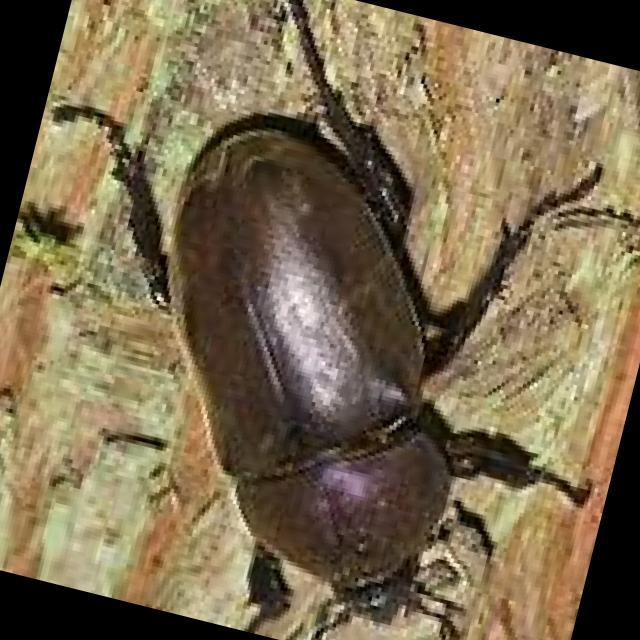Rhino-beetle: (95, 100, 533, 611)
